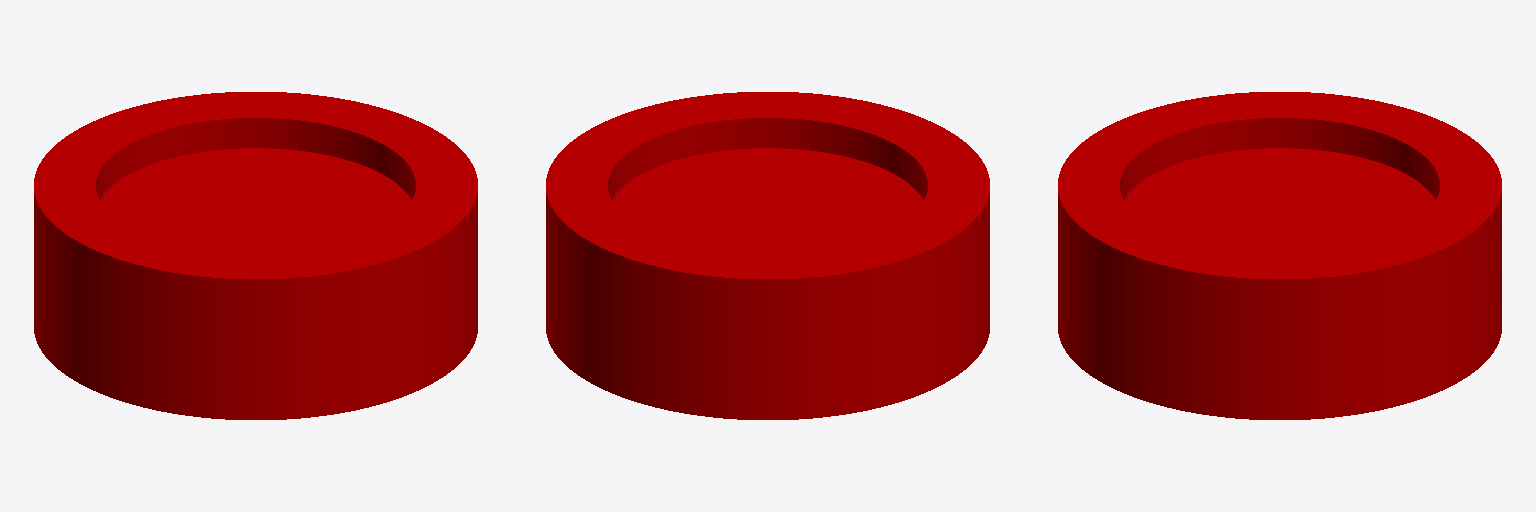
The model's file is RedDisc.obj.
The picture shows the model from 3 angles: view 1: azimuth 30°, elevation 25°; view 2: azimuth 150°, elevation 25°; view 3: azimuth 270°, elevation 25°; orthographic projection.
Visible parts, largest first — view 1: RedDisc_4gewinnt.001; view 2: RedDisc_4gewinnt.001; view 3: RedDisc_4gewinnt.001.
Boxes of the visible parts, x1,y1,x2,y2 form: RedDisc_4gewinnt.001: [34, 92, 477, 419]; RedDisc_4gewinnt.001: [546, 92, 989, 419]; RedDisc_4gewinnt.001: [1058, 92, 1501, 419].
Size of the model in its own units: 13.8 by 4.83 by 13.8.